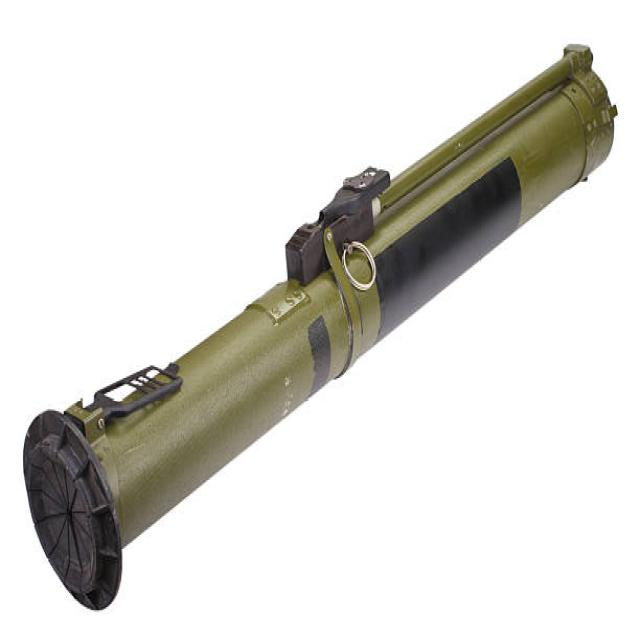bazooka: (20, 33, 624, 621)
